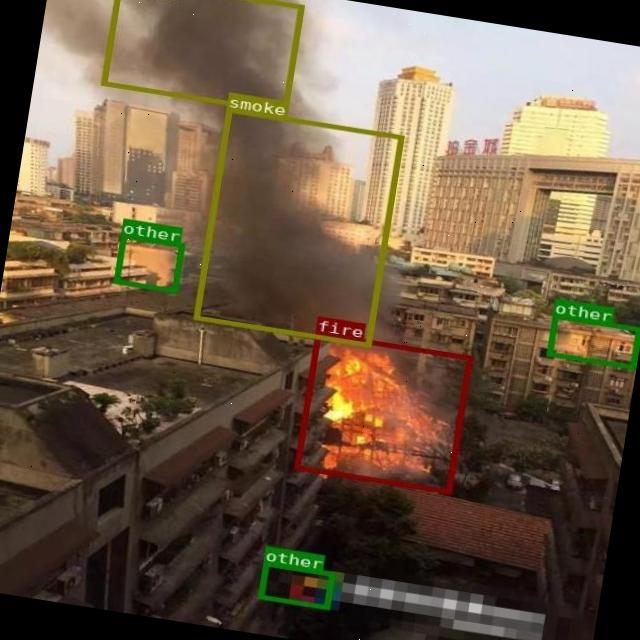fire: (294, 332, 472, 494)
smoke: (193, 108, 404, 346), (100, 0, 303, 113)
